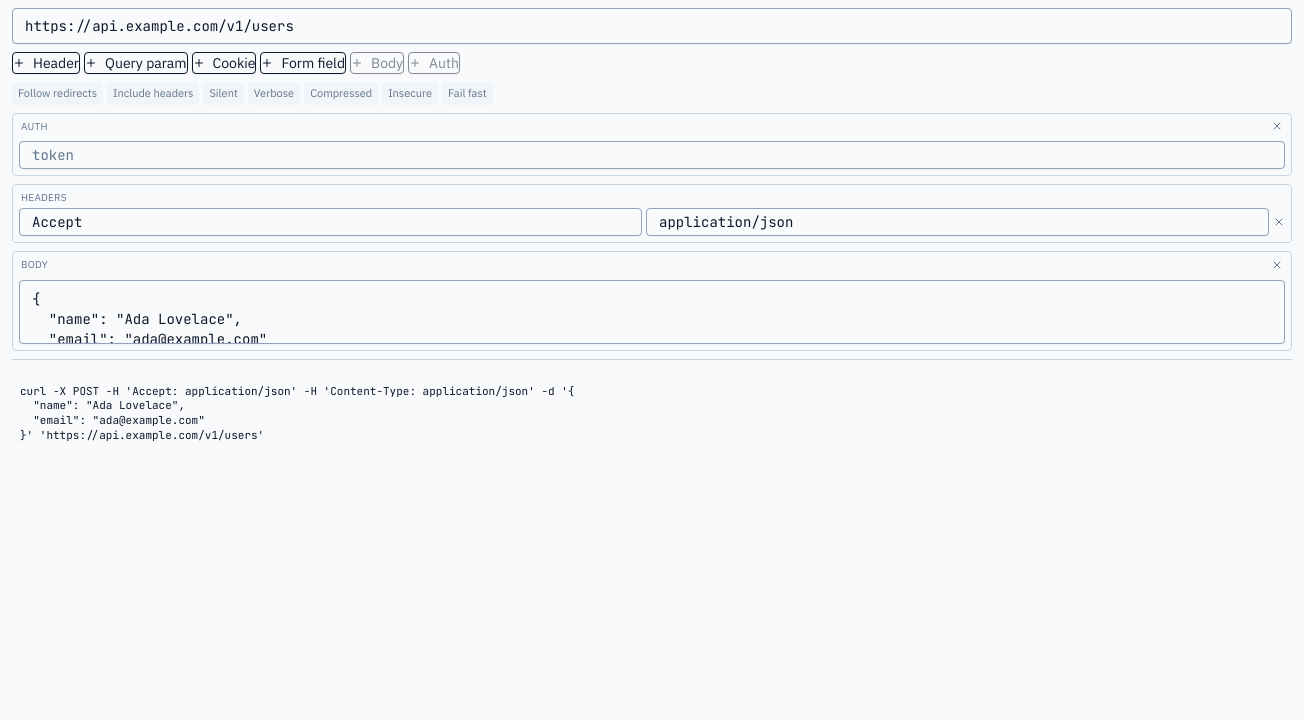
CurlBuilderWidget › warns when both an Authorization header and the auth block are set
This screenshot has width=1304, height=720.
# Header 2: the sample already carries an "Accept" header as row 1.
Click the button "Header": (46, 63) left=12, top=52, right=80, bottom=74
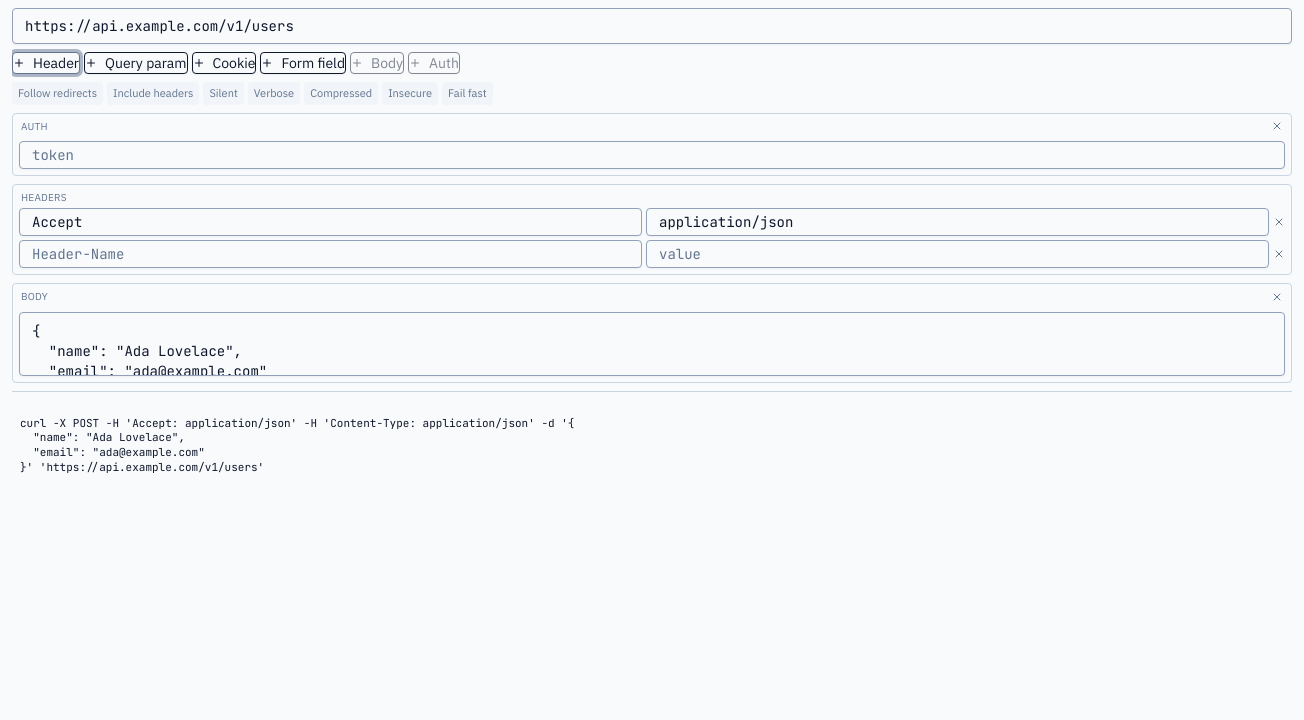
In the field named "Header 2 name": (330, 254) left=19, top=240, right=642, bottom=268, type "Authorization"
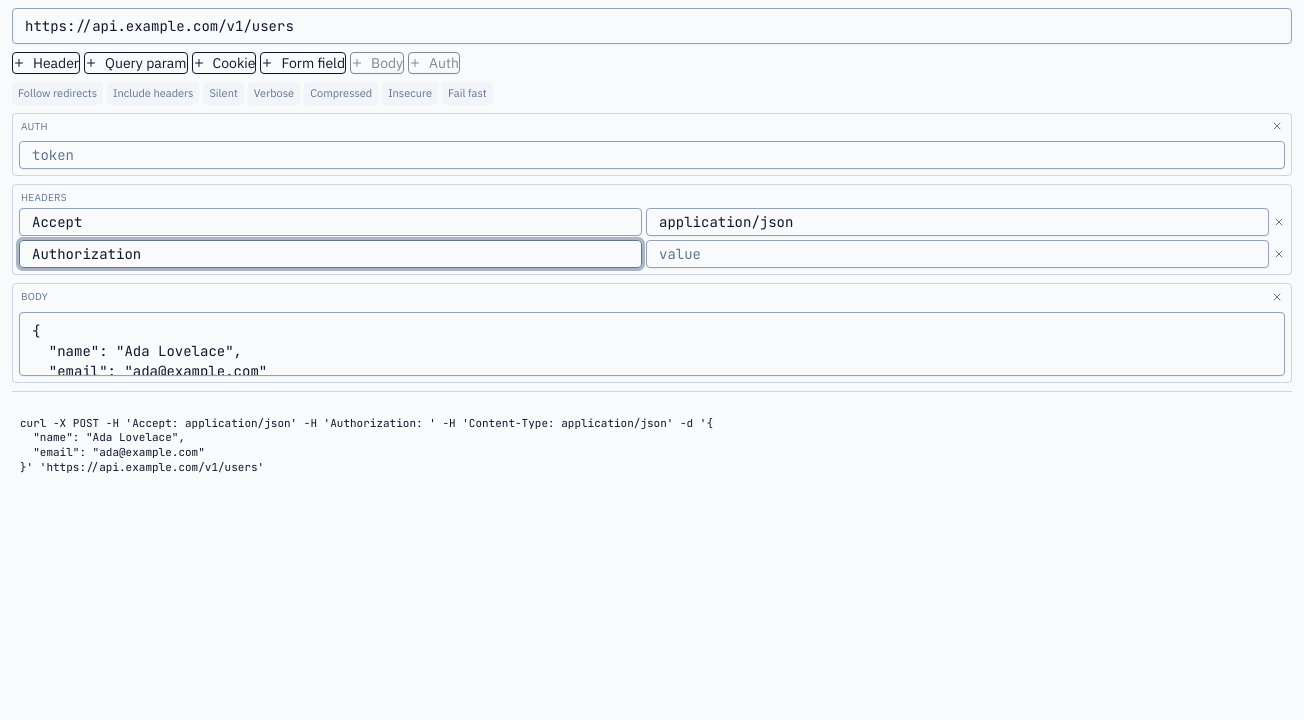
In the field named "Header 2 value": (958, 254) left=646, top=240, right=1269, bottom=268, type "Bearer manual"
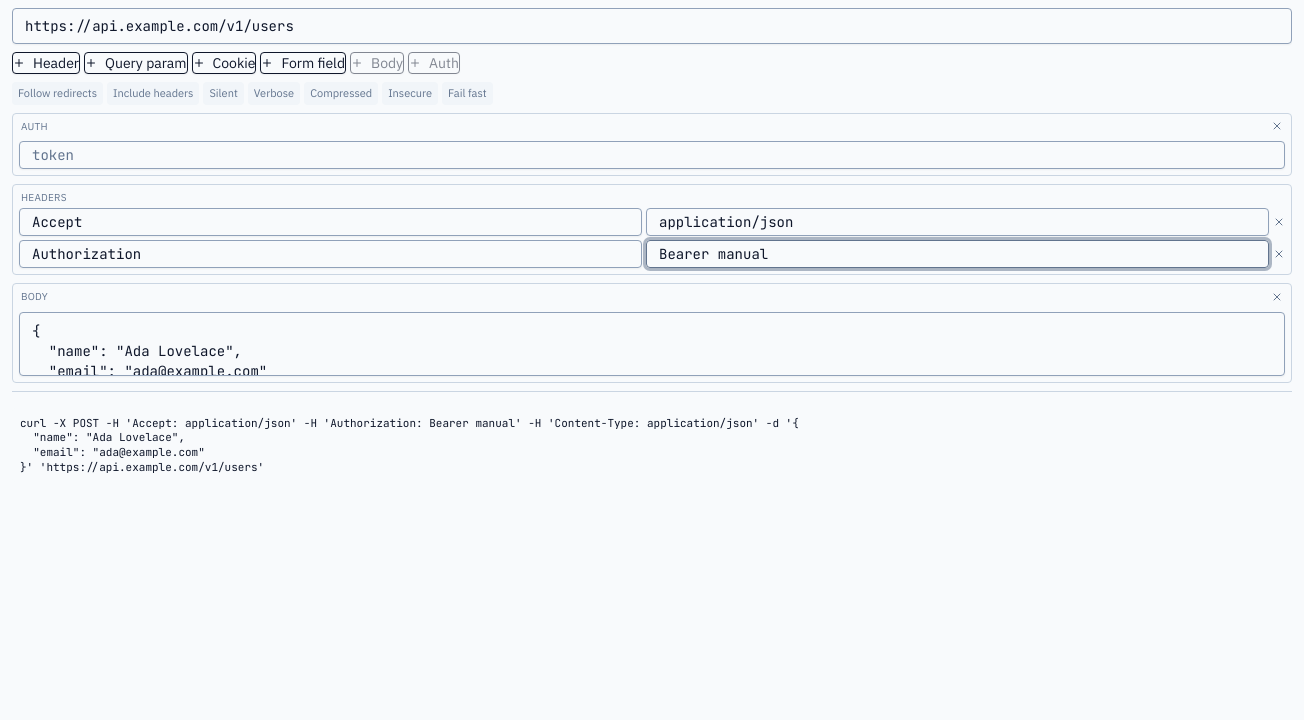
Click the button "Auth": (434, 63) left=408, top=52, right=460, bottom=74
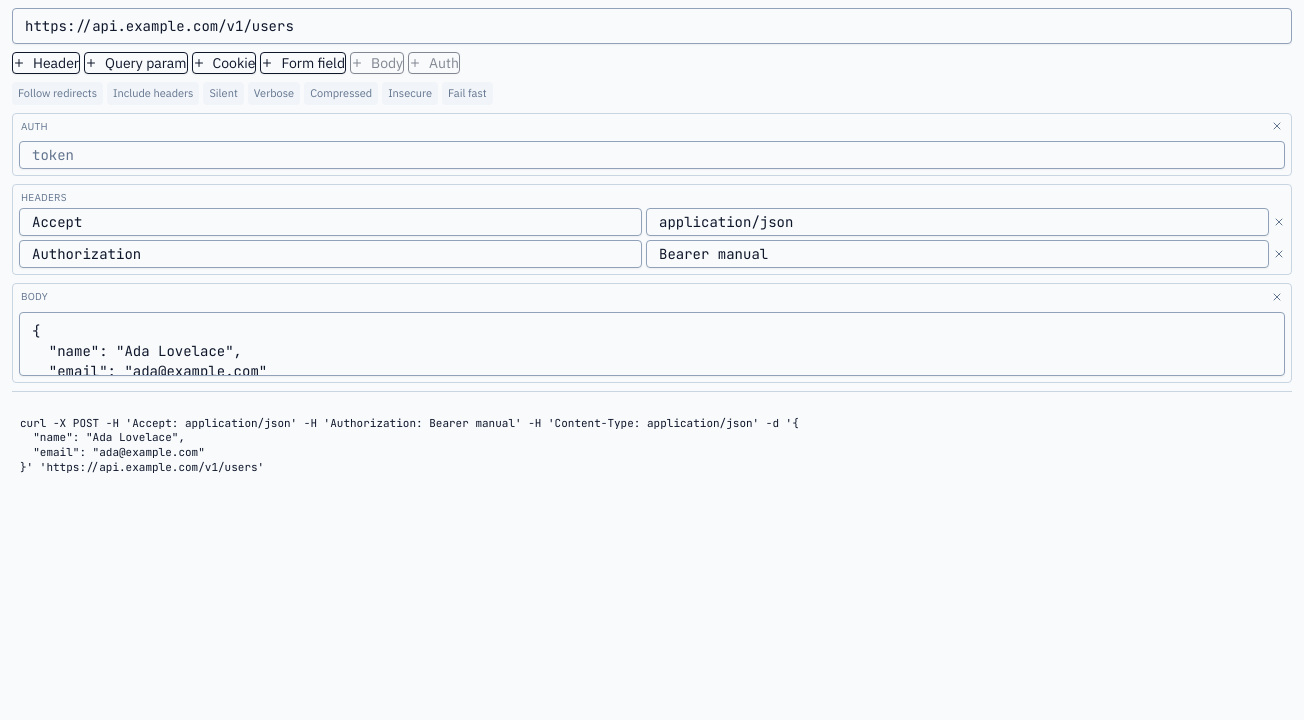
In the field named "Bearer token": (652, 155) left=19, top=141, right=1285, bottom=169, type "auto"
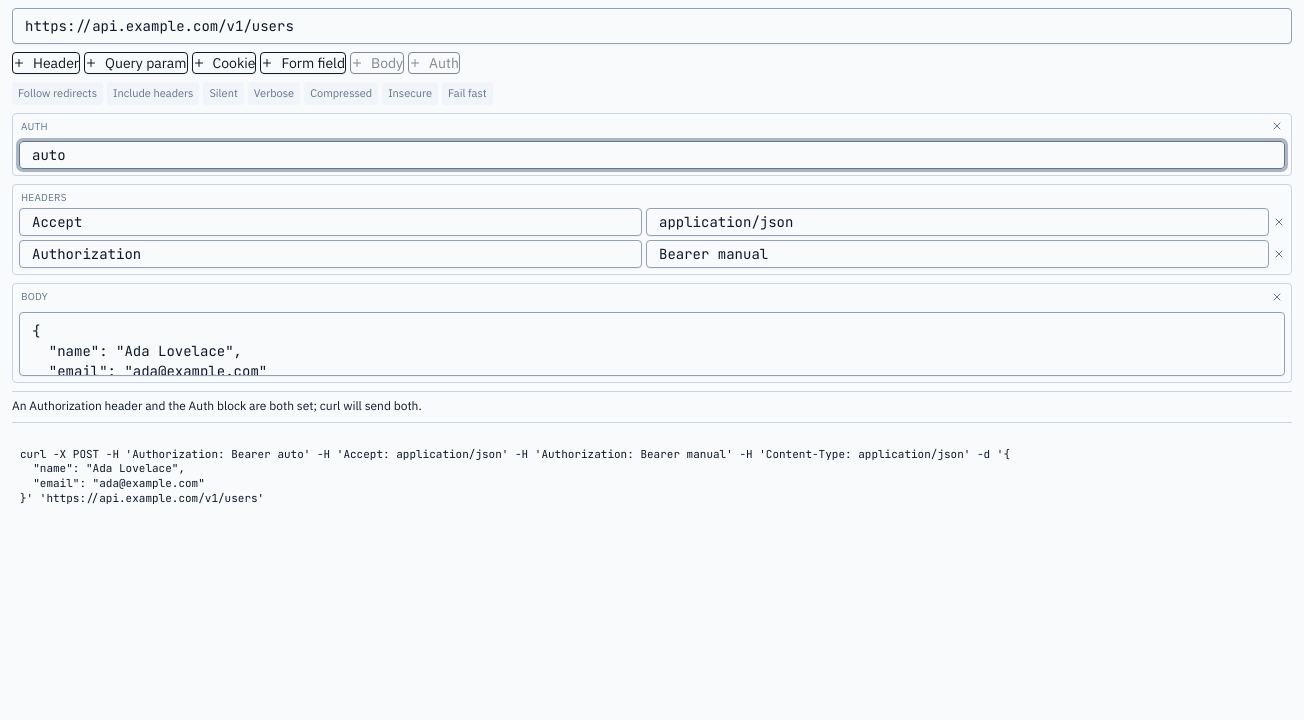
Expected: the text "both set; curl will send both" is shown, left=12, top=398, right=422, bottom=413
